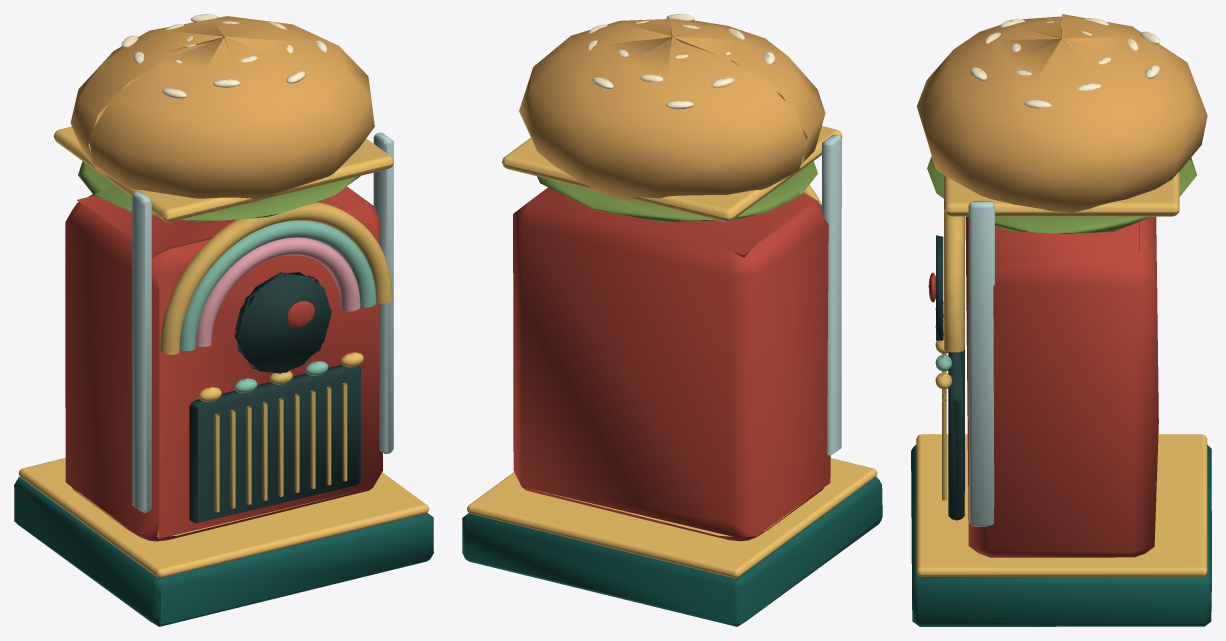
3 renders of one model, left to right at view 1: azimuth 30°, elevation 25°; view 2: azimuth 150°, elevation 25°; view 3: azimuth 270°, elevation 25°, orthographic. The views are drawn at different scales.
Visible parts, largest first — view 1: Red cabinet, Sesame crown, Brass welt, Jade footing, Speaker, Chrome flank, Vinyl record, Glowing arch.001, Glowing arch.002, Lettuce crown, Sesame seed, Record label; view 2: Red cabinet, Sesame crown, Jade footing, Brass welt, Chrome flank, Lettuce crown, Sesame seed; view 3: Red cabinet, Sesame crown, Brass welt, Jade footing, Chrome flank, Lettuce crown, Speaker, Sesame seed, Vinyl record.
Part boxes in pixels (x1,y1,x2,y2): Red cabinet: (65,186,382,541); Sesame crown: (70,16,374,202); Brass welt: (18,126,428,578); Jade footing: (14,477,433,626); Speaker: (189,364,360,523); Chrome flank: (132,132,393,513); Vinyl record: (234,272,331,373); Glowing arch.001: (179,220,376,350); Glowing arch.002: (195,237,360,346); Lettuce crown: (78,161,360,222); Sesame seed: (121,14,327,98); Record label: (286,301,315,327); Red cabinet: (513,187,830,541); Sesame crown: (519,19,825,204); Jade footing: (462,477,882,626); Brass welt: (467,126,877,578); Chrome flank: (822,134,841,455); Lettuce crown: (537,161,817,222); Sesame seed: (587,14,775,109); Red cabinet: (965,216,1158,557); Sesame crown: (917,14,1207,212); Brass welt: (916,171,1207,576); Jade footing: (911,445,1211,626); Chrome flank: (968,201,994,526); Lettuce crown: (927,156,1196,234); Speaker: (948,349,964,520); Sesame seed: (970,18,1160,108); Vinyl record: (936,235,943,340).
Size of the model in its own units: 0.7947 by 1.37 by 0.7144.
